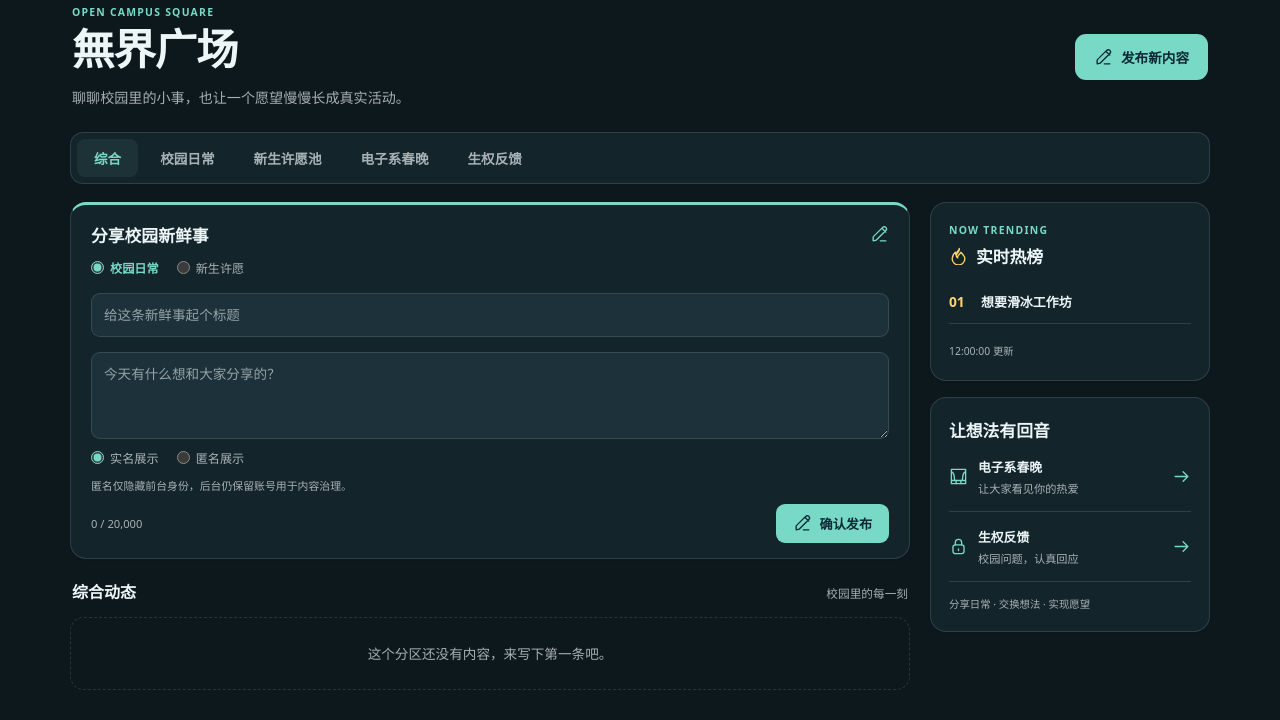
it: CommunityPage › uses the existing festival and confidential consultation entry points for special channels
Click the tab "电子系春晚" at (394, 158), box [344,139,446,177]
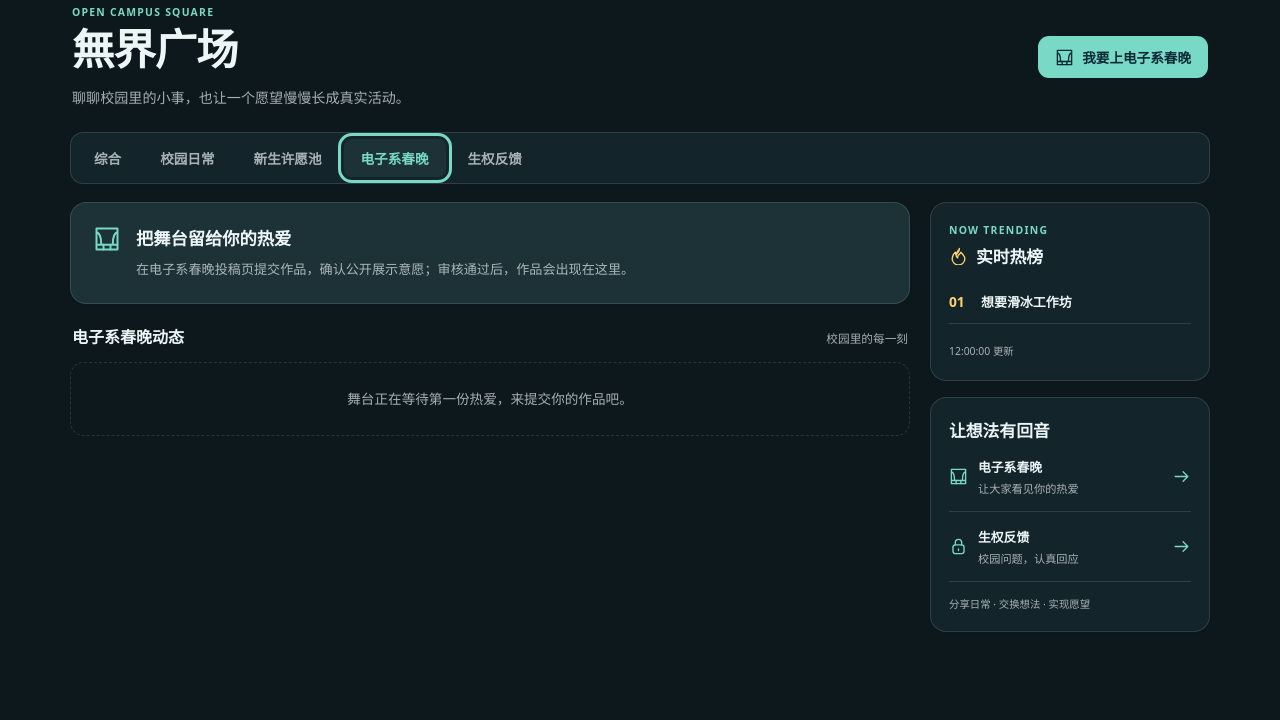
Check: the button "内容" is gone
Click the tab "生权反馈" at (495, 158), box [450,139,539,177]
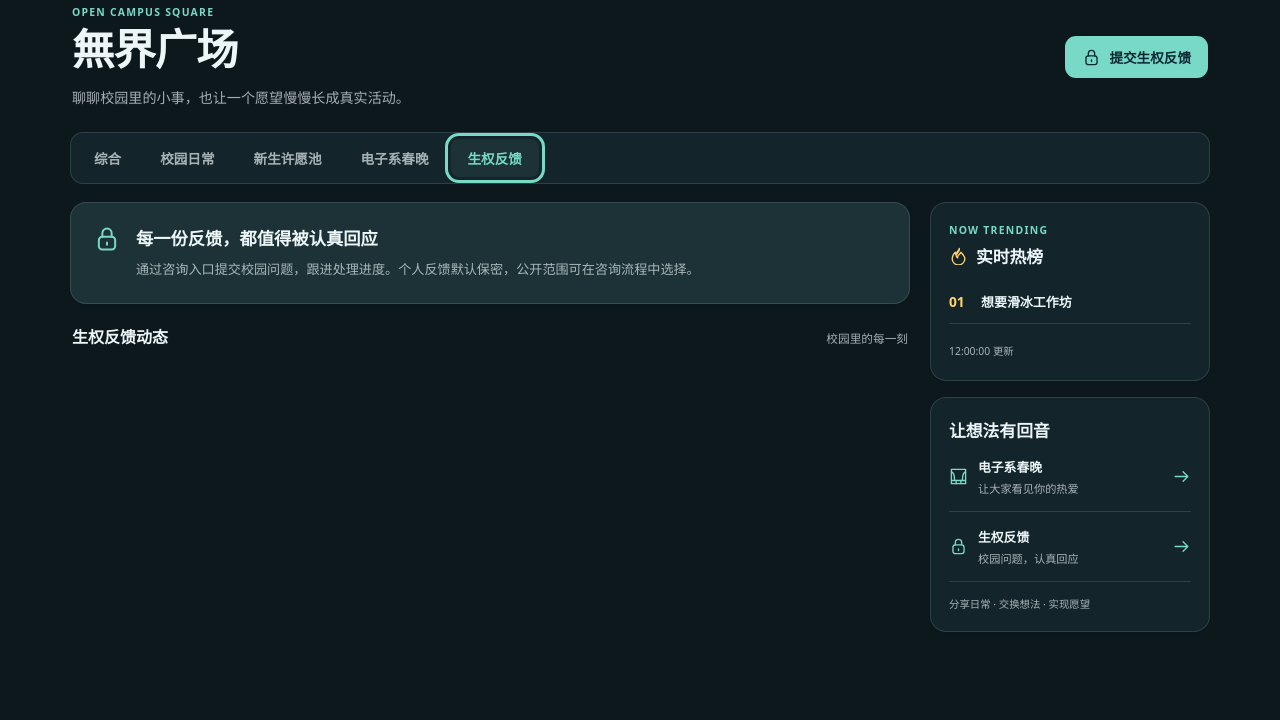
Check: the button "内容" is not shown
Check: the text "通过咨询入口提交校园问题，跟进处理进度。个人反馈默认保密，公开范围可在咨询流程中选择。" is shown, box [136,258,700,281]
